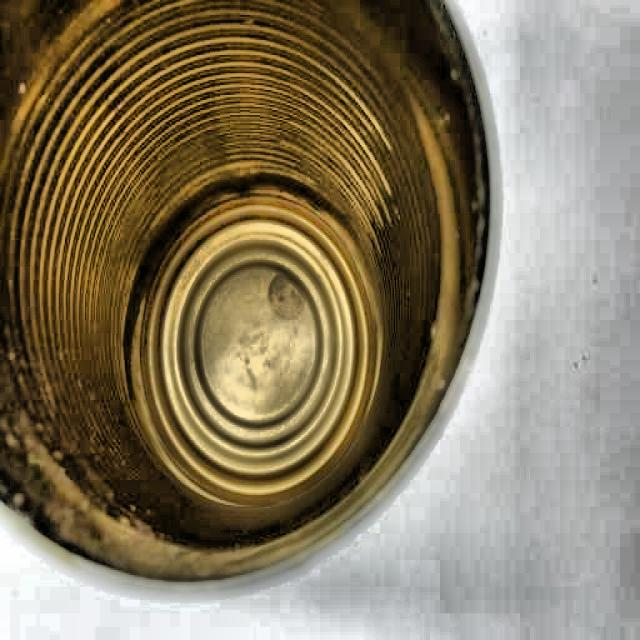metal: (1, 0, 492, 588)
